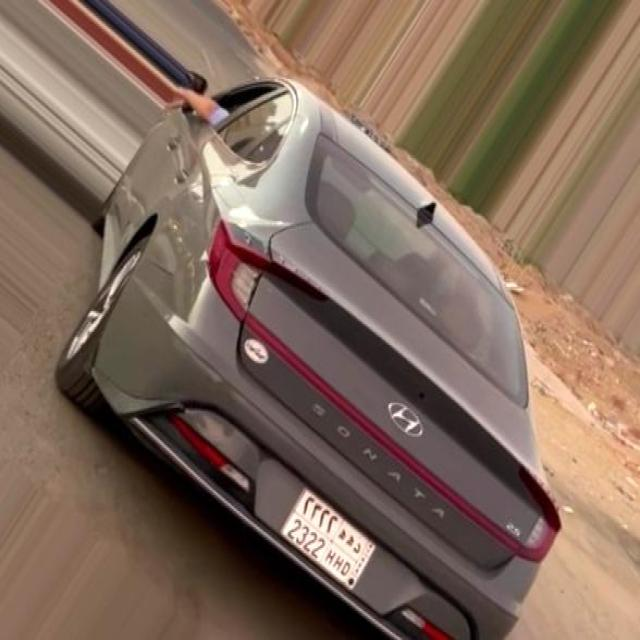Car-plate: (274, 476, 378, 600)
